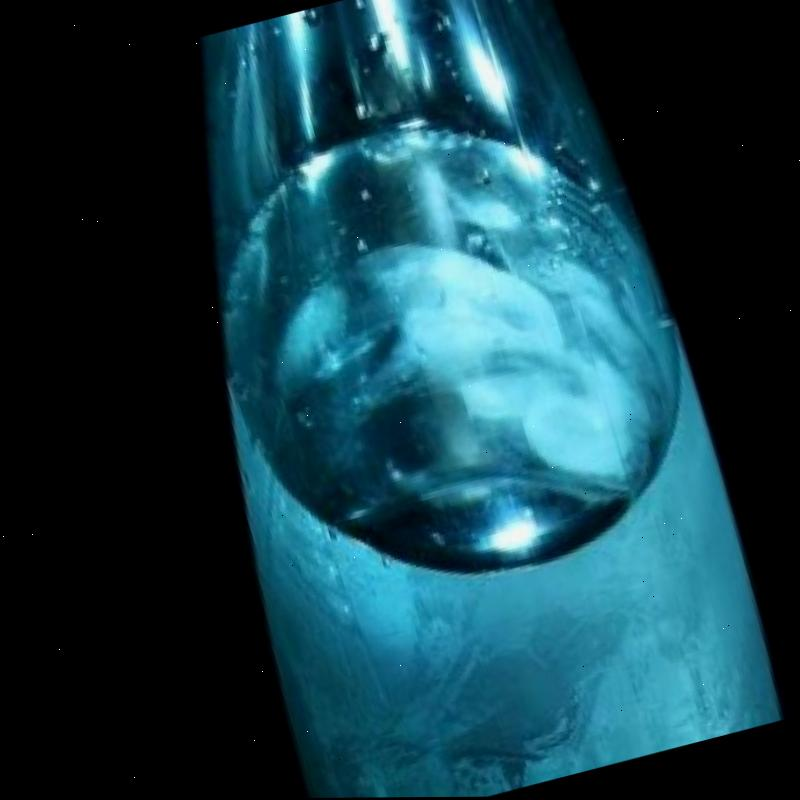botella: (95, 0, 790, 799)
